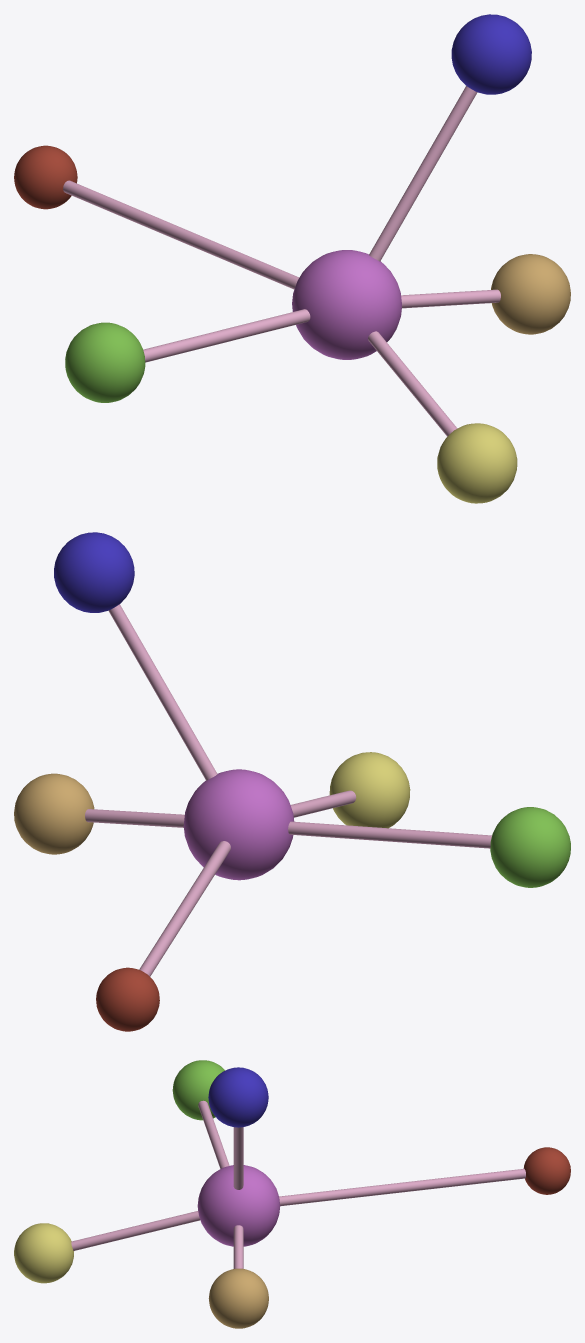
The picture shows the model from 3 angles, top to bottom: view 1: azimuth 30°, elevation 25°; view 2: azimuth 150°, elevation 25°; view 3: azimuth 270°, elevation 25°; orthographic projection. The views are drawn at different scales.
Parts seen in each view (by area): view 1: bones, MAIN, sphere4, sphere3, sphere2, sphere1, sphere5; view 2: bones, MAIN, sphere2, sphere3, sphere1, sphere4, sphere5; view 3: bones, MAIN, sphere1, sphere3, sphere4, sphere2, sphere5.
Part boxes in pixels (x1=…): bones: x1=63, y1=86, x2=500, y2=436; MAIN: x1=292, y1=250, x2=401, y2=359; sphere4: x1=437, y1=423, x2=517, y2=503; sphere3: x1=451, y1=14, x2=531, y2=94; sphere2: x1=65, y1=322, x2=145, y2=402; sphere1: x1=491, y1=254, x2=570, y2=334; sphere5: x1=14, y1=145, x2=77, y2=209; bones: x1=85, y1=604, x2=491, y2=976; MAIN: x1=183, y1=769, x2=294, y2=880; sphere2: x1=490, y1=807, x2=570, y2=887; sphere3: x1=54, y1=532, x2=134, y2=612; sphere1: x1=14, y1=773, x2=94, y2=854; sphere4: x1=329, y1=752, x2=410, y2=828; sphere5: x1=96, y1=967, x2=159, y2=1031; bones: x1=71, y1=1100, x2=525, y2=1268; MAIN: x1=197, y1=1165, x2=280, y2=1246; sphere1: x1=208, y1=1268, x2=268, y2=1328; sphere3: x1=208, y1=1067, x2=268, y2=1127; sphere4: x1=14, y1=1223, x2=73, y2=1283; sphere2: x1=172, y1=1060, x2=224, y2=1120; sphere5: x1=523, y1=1147, x2=570, y2=1194.
Bounding box in the file's own units: 1.82 × 1.18 × 2.26.
